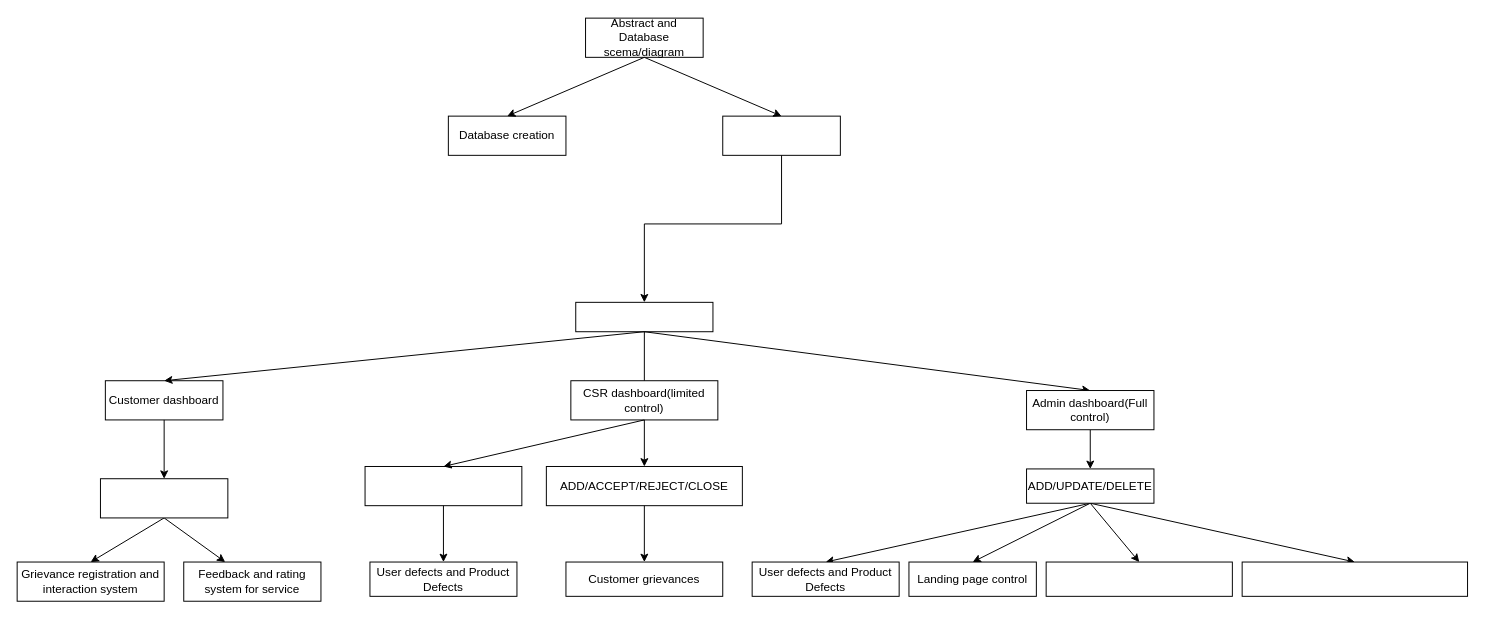
The diagram is 1485 pixels wide and 621 high, and some of its shapes have lost their labels. The centre of each missing label's shape, as x and y in pixels:
"ADD/CHECK" goes at point (443, 486).
"ADD/CLOSE" goes at point (163, 498).
"Implementations for grievance resolution" goes at point (1138, 578).
"Login system (Admin,CSR,User)" goes at point (644, 316).
"Modules creation" goes at point (781, 135).
"Users,CSRs,Departments, Technicians in dept" goes at point (1354, 578).
